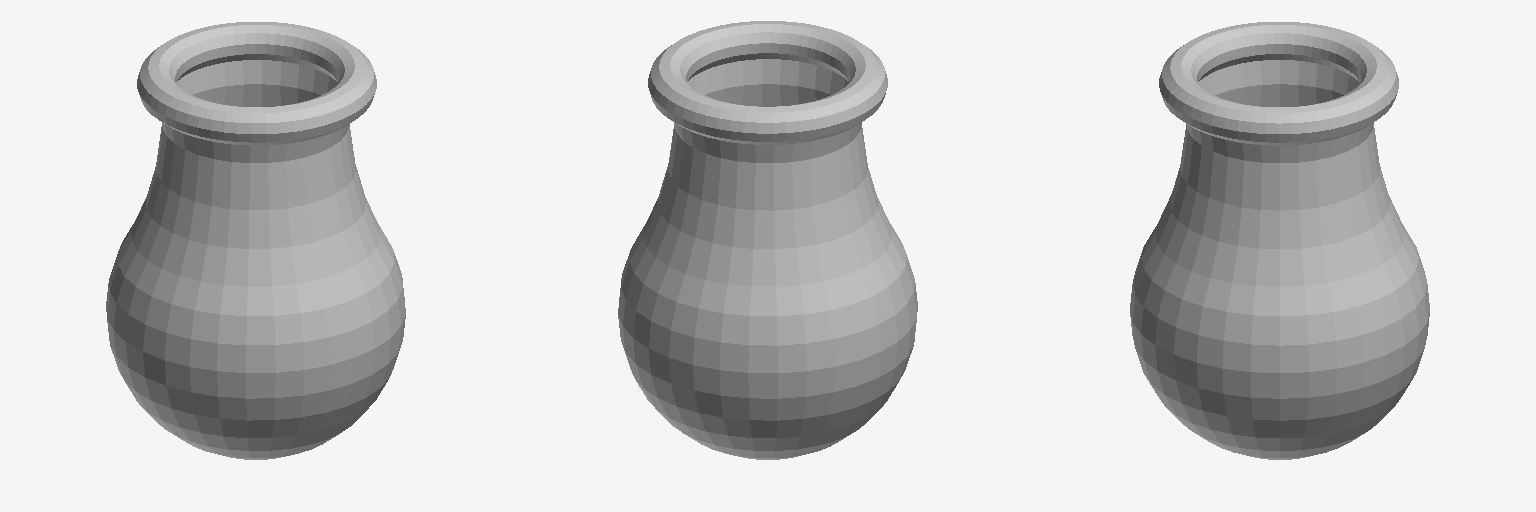
The model's file is bazooka.obj.
3 views of the same model, side by side, from view 1: azimuth 30°, elevation 25°; view 2: azimuth 150°, elevation 25°; view 3: azimuth 270°, elevation 25° (orthographic).
Parts seen in each view (by area): view 1: Torus.002; view 2: Torus.002; view 3: Torus.002.
Boxes of the visible parts, <box> form: Torus.002: <box>106,22,405,459</box>; Torus.002: <box>618,21,917,459</box>; Torus.002: <box>1130,22,1429,459</box>.
Bounding box in the file's own units: 2 × 2.79 × 2.